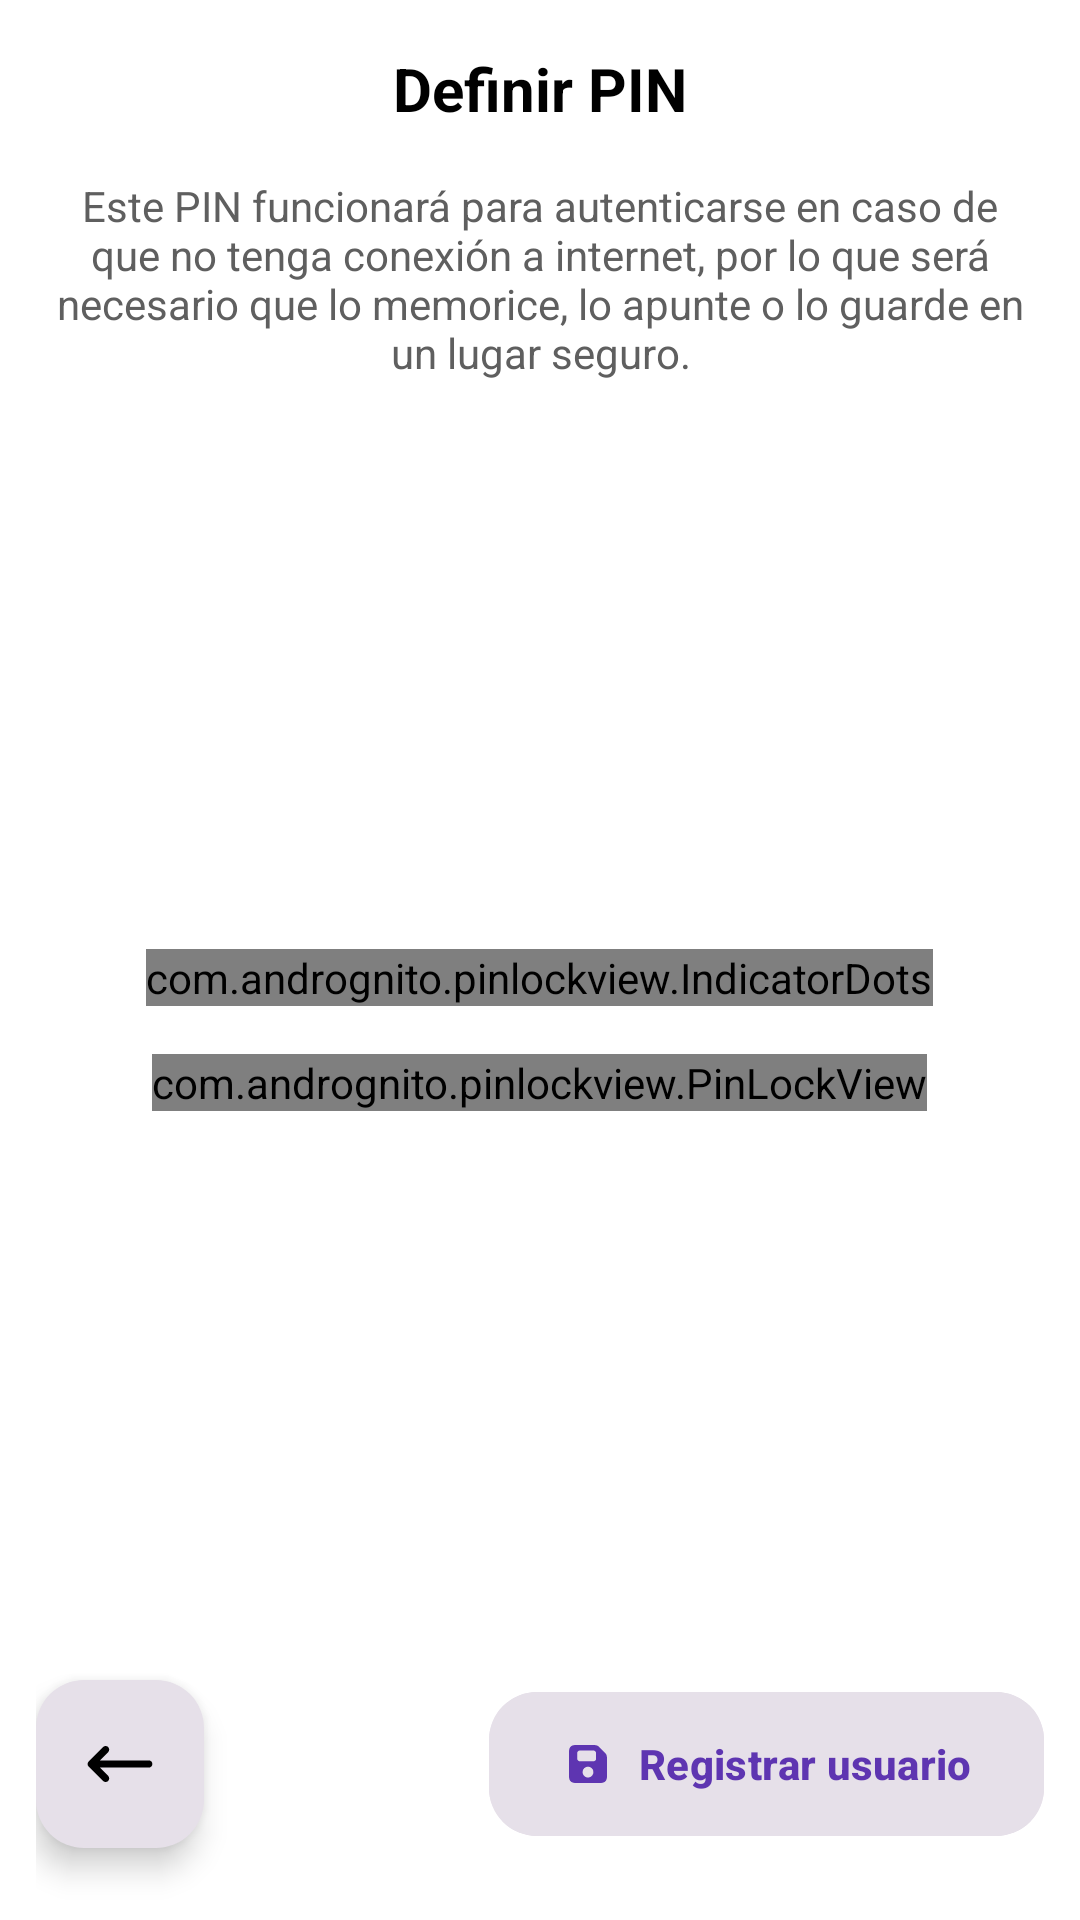

Point at icon controls on the screen. Image size 1080×1920, points as (x=x, y=y).
left arrow: (x=120, y=1764)
